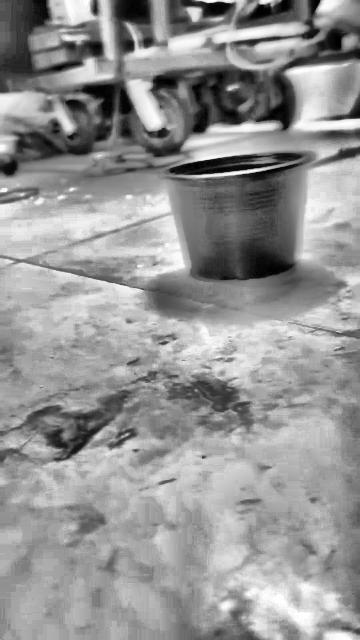pot: (161, 150, 317, 280)
